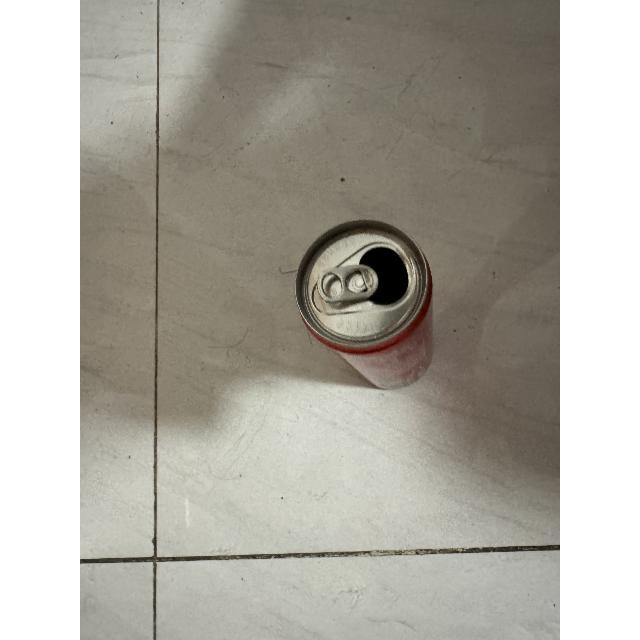coca-cola: (291, 216, 447, 397)
